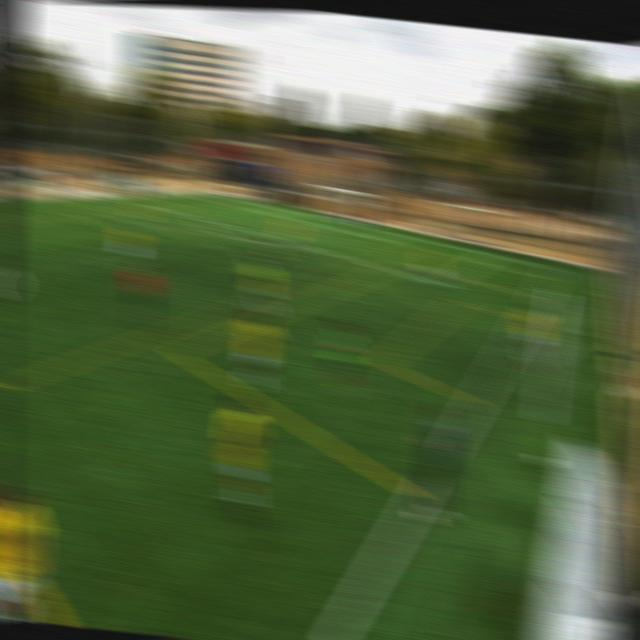bigarea_bottom_inner: (430, 275, 453, 294)
bigarea_bottom_outter: (481, 248, 501, 261)
bigarea_top_outter: (227, 195, 244, 204)
bottom_arc_area_intersection: (298, 239, 317, 255)
corner: (547, 260, 566, 277), (199, 191, 216, 198)
smallarea_bottom_inner: (371, 233, 390, 245)
smallarea_bottom_outter: (390, 229, 409, 241)
smallarea_top_inner: (251, 206, 272, 218)
smallarea_top_outter: (274, 205, 294, 216)
top_arc_area_intersection: (195, 212, 216, 227)
